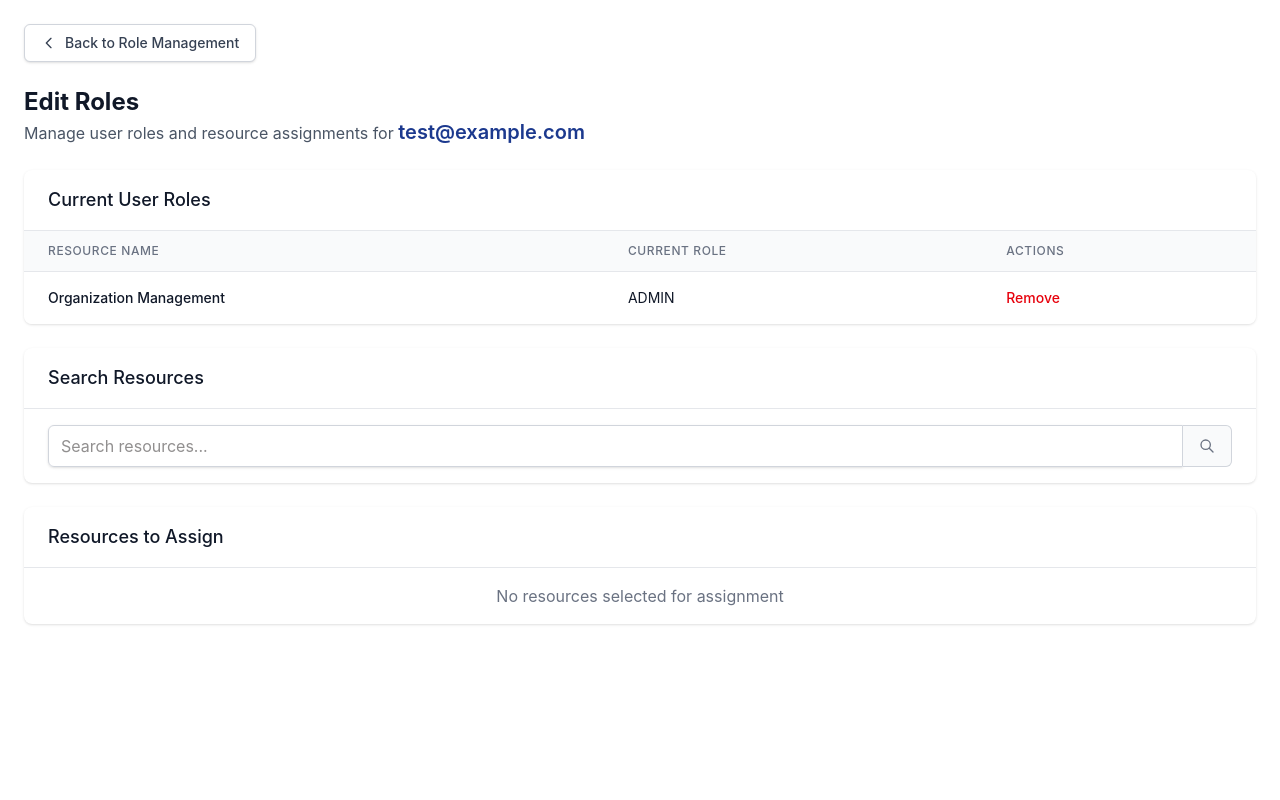
Test case: EditRoles › should show confirmation modal when remove button is clicked
The image size is (1280, 800).
Expected: the heading "Current User Roles" is shown, [48, 189, 211, 210]
Note: Find the remove button in the table (not the modal)
Click the button "Remove" at (1033, 298), box [1006, 288, 1060, 308]
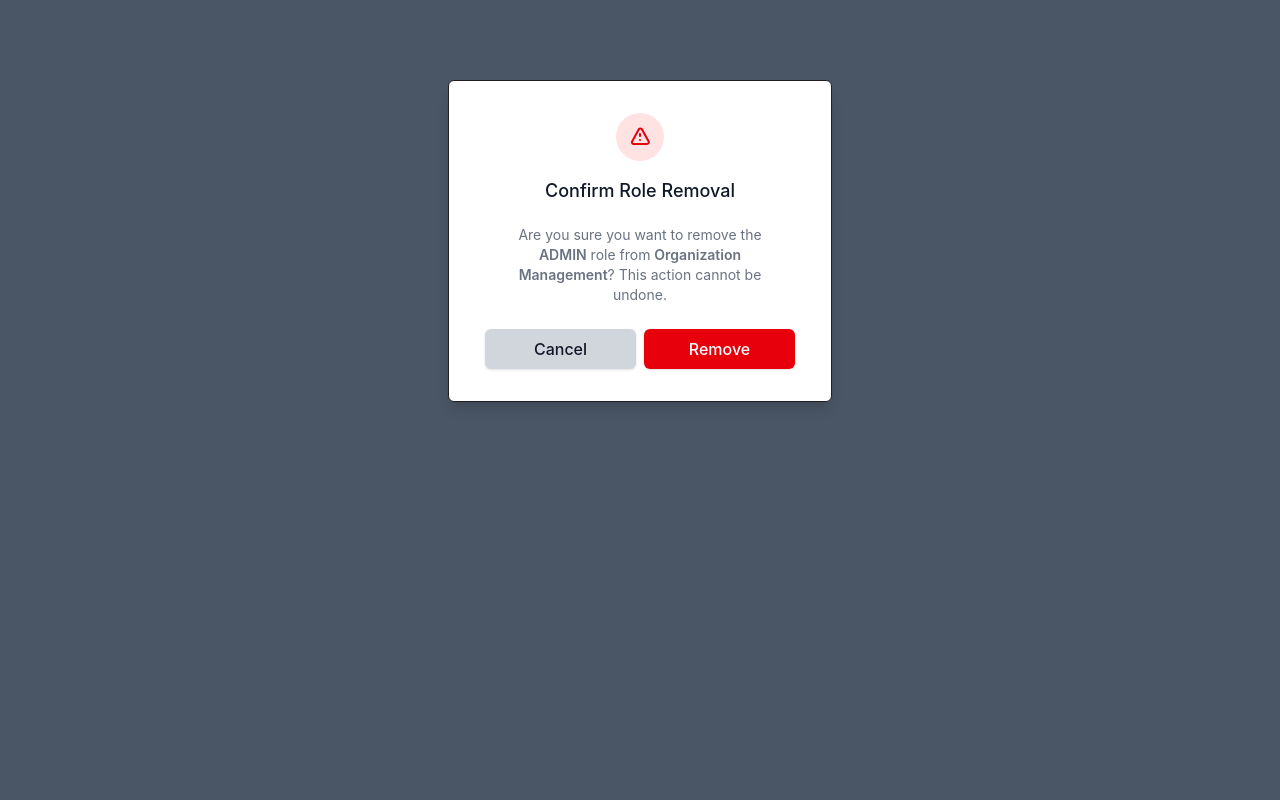
Expected: the dialog is shown, [448, 80, 832, 402]
Expected: the heading "Confirm Role Removal" is shown, [545, 180, 735, 201]
Expected: the text "Are you sure you want to remove the" is shown, [518, 226, 762, 243]
